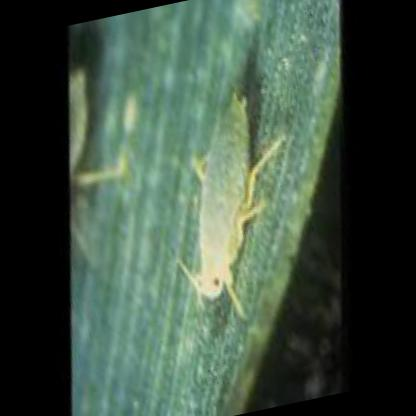schizaphis graminum: (193, 99, 278, 301)
